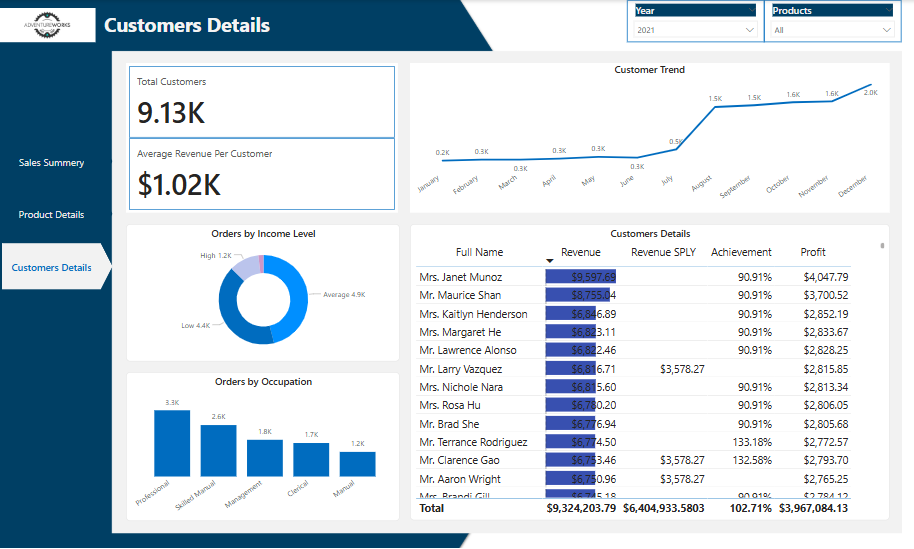

This screenshot's page, from the dashboard's own definition file:
{"tool":"powerbi","page":{"name":"Customers Details","canvas":[1500,900],"ordinal":2},"visuals":[{"type":"image","title":"AW Logo","box":[0,12.6,158.4,55.8],"z":0},{"type":"tableEx","title":"Customers Details","fields":{"Values":["Customer Dim.Full Name","Measure Data.Total Revenue","Measure Data.Total revenue SPLY","Measure Data.Revenue Achievement","Measure Data.Total Profit"]},"box":[672.3,367,784.6,485],"z":3000},{"type":"pageNavigator","box":[5.6,226.6,181.6,250],"z":4000},{"type":"textbox","box":[167.4,12.6,466.2,55.8],"z":5000},{"type":"group","id":"g1","title":"Group 3","box":[1028.1,0,449.4,69.3],"z":6000},{"type":"lineChart","title":"Customer Trend","fields":{"Category":["Calendar_Table.Month Name"],"Y":["Count(Sales Data Fact.CustomerKey)"]},"box":[672.3,103,784.6,245],"z":7001},{"type":"cardVisual","fields":{"Data":["Measure Data.Total Customers","Measure Data.Average Revenue Per Customer"]},"box":[207.9,103,445,245],"z":7002},{"type":"donutChart","title":"Orders by Income Level","fields":{"Y":["Measure Data.Total Orders"],"Category":["Customer Dim.Income Level"]},"box":[208,366,447.9,225],"z":7003},{"type":"clusteredColumnChart","title":"Orders by Occupation","fields":{"Category":["Customer Dim.Occupation"],"Y":["Measure Data.Total Orders"]},"box":[208.5,609,447.9,244.1],"z":7004},{"type":"slicer","fields":{"Values":["Calendar_Table.Year"]},"box":[1028.1,0,224.7,69.3],"z":8000,"group":"g1"},{"type":"slicer","fields":{"Values":["Products Dim.ProductName"]},"box":[1252.8,0,224.7,69.3],"z":22004,"group":"g1"}]}

Visuals, with their boxes in screenshot pixels (x1, y1, x2, y2), scaled from the page's 1500x900 canvas onto the 914x549 screenshot:
"AW Logo" image: Rect(0, 8, 97, 42)
"Customers Details" tableEx: Rect(410, 224, 888, 520)
pageNavigator: Rect(3, 138, 114, 291)
textbox: Rect(102, 8, 386, 42)
"Group 3" group: Rect(626, 0, 900, 42)
"Customer Trend" lineChart: Rect(410, 63, 888, 212)
cardVisual - Measure Data.Total Customers x Measure Data.Average Revenue Per Customer: Rect(127, 63, 398, 212)
"Orders by Income Level" donutChart: Rect(127, 223, 400, 361)
"Orders by Occupation" clusteredColumnChart: Rect(127, 371, 400, 520)
slicer - Calendar_Table.Year: Rect(626, 0, 763, 42)
slicer - Products Dim.ProductName: Rect(763, 0, 900, 42)
